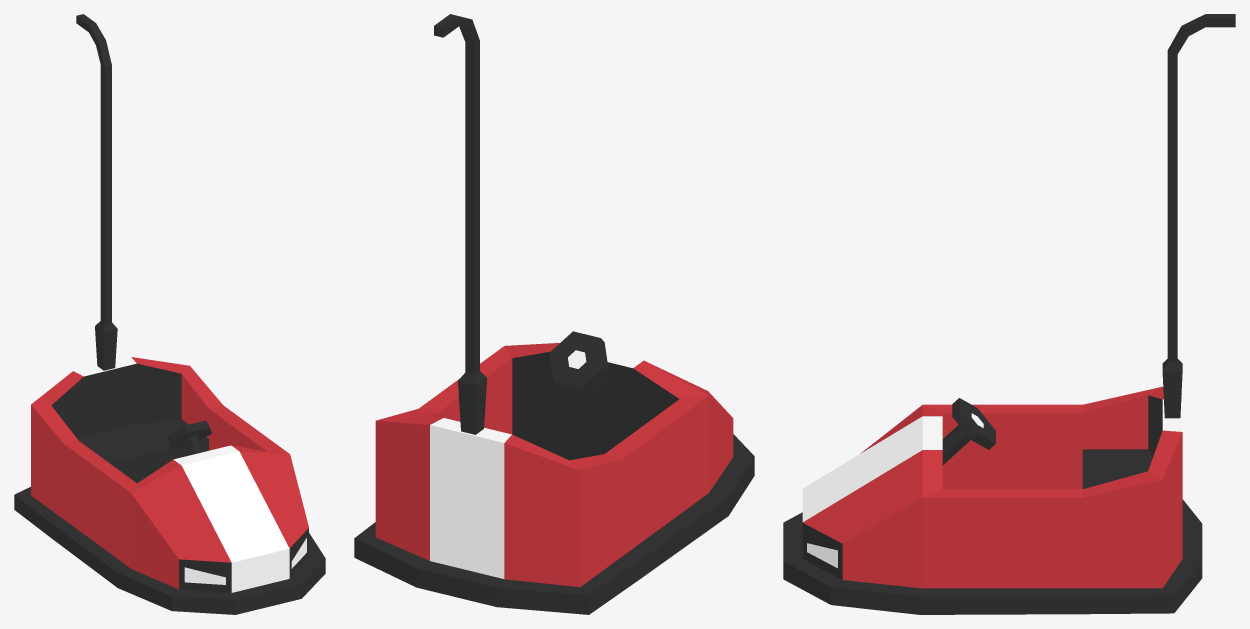
The model's file is bumper-car-red.glb.
3 views of the same model, side by side, from view 1: azimuth 30°, elevation 25°; view 2: azimuth 150°, elevation 25°; view 3: azimuth 270°, elevation 25° (orthographic). The views are drawn at different scales.
Visible parts, largest first — view 1: bumper-car-red; view 2: bumper-car-red; view 3: bumper-car-red.
Part boxes in pixels (x1,y1,x2,y2): bumper-car-red: [14, 14, 325, 614]; bumper-car-red: [354, 14, 754, 614]; bumper-car-red: [783, 14, 1235, 614].
Size of the model in its own units: 1.3 by 3 by 2.26.
1 material, 1 textured.
